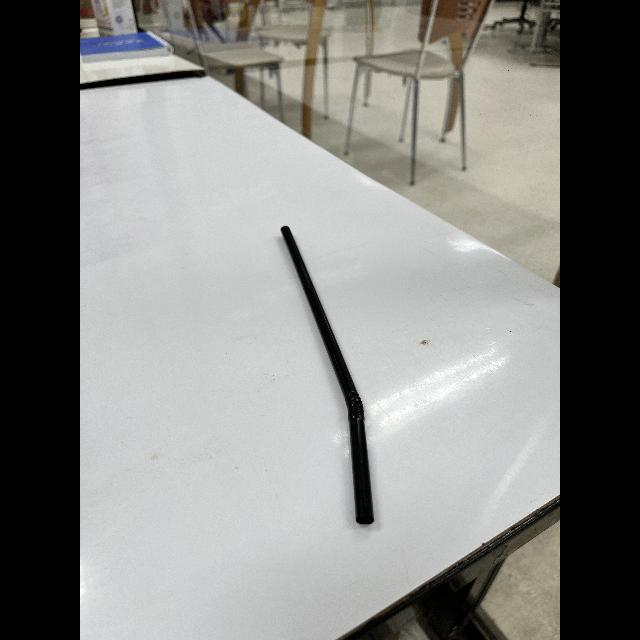straw: (276, 220, 380, 534)
